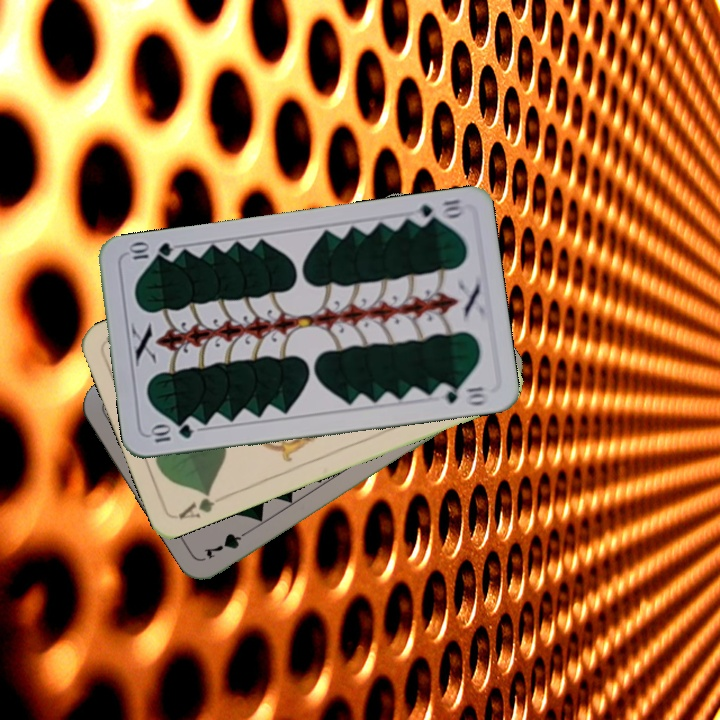G10: (408, 195, 467, 228), (147, 420, 196, 445)
G7: (199, 523, 256, 562)
GA: (174, 486, 218, 522)
